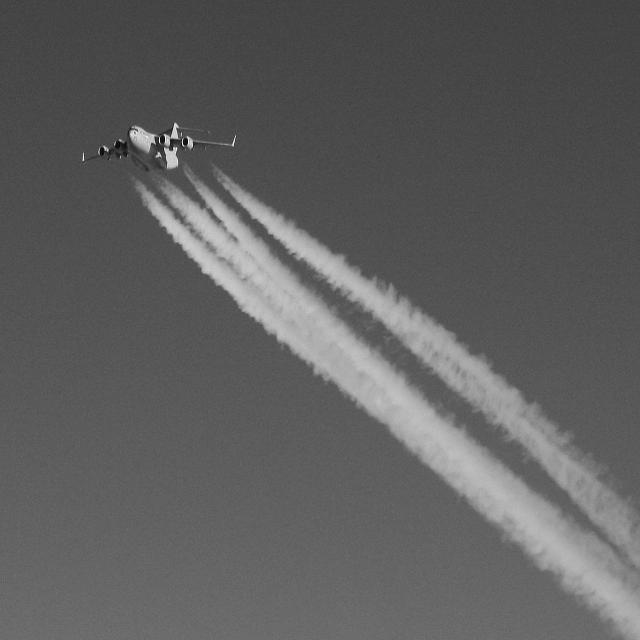MIL_Plane: (81, 141, 236, 153)
